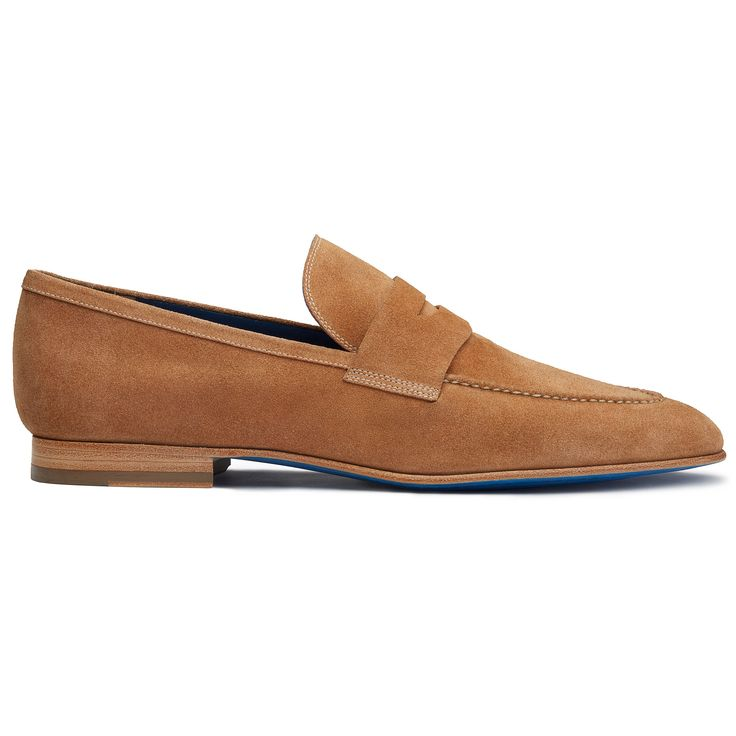gamuza: (12, 235, 725, 476)
